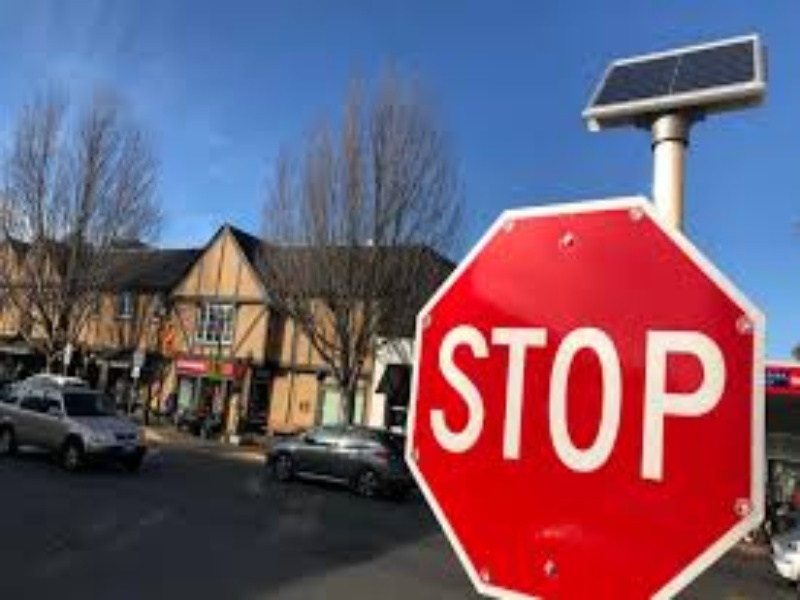Stop_Sign: (408, 210, 758, 600)
